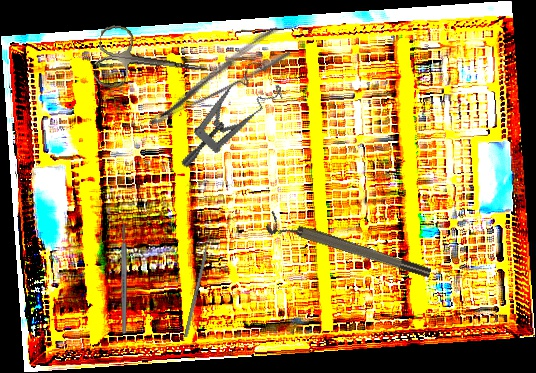Dressing Forceps: (137, 25, 293, 129)
Fixation Ring: (264, 210, 433, 288)
Iris Scissors: (92, 22, 215, 103)
Pusher: (183, 226, 214, 338)
Scalpel Handle: (121, 223, 127, 334)
Speculum: (154, 55, 297, 170)
